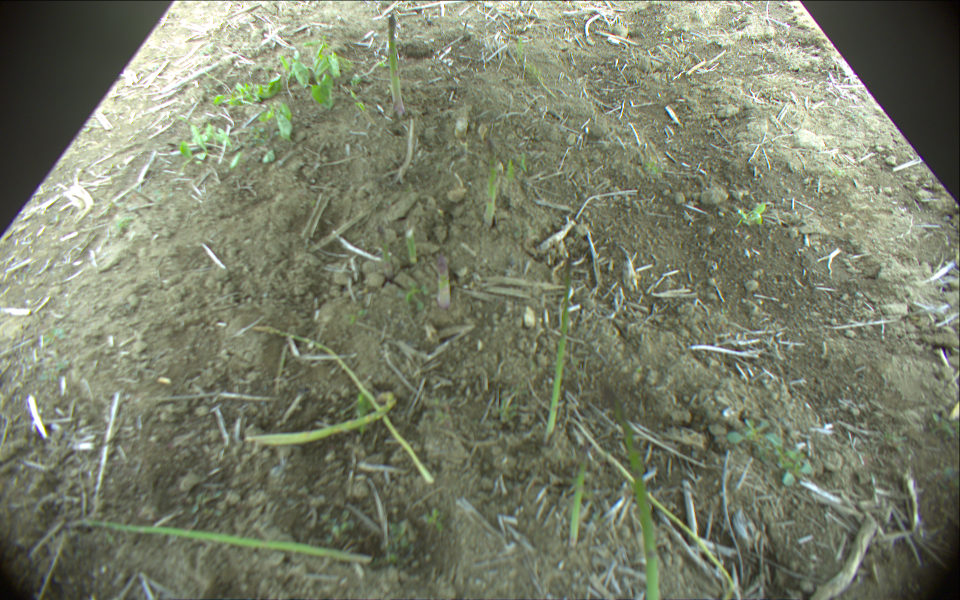aspa: (254, 323, 433, 485), (69, 514, 377, 567), (602, 384, 662, 600), (254, 393, 396, 450), (545, 247, 576, 436), (384, 14, 410, 116), (567, 443, 591, 552), (481, 129, 501, 228), (374, 224, 395, 277), (434, 256, 450, 314), (404, 227, 416, 269)
